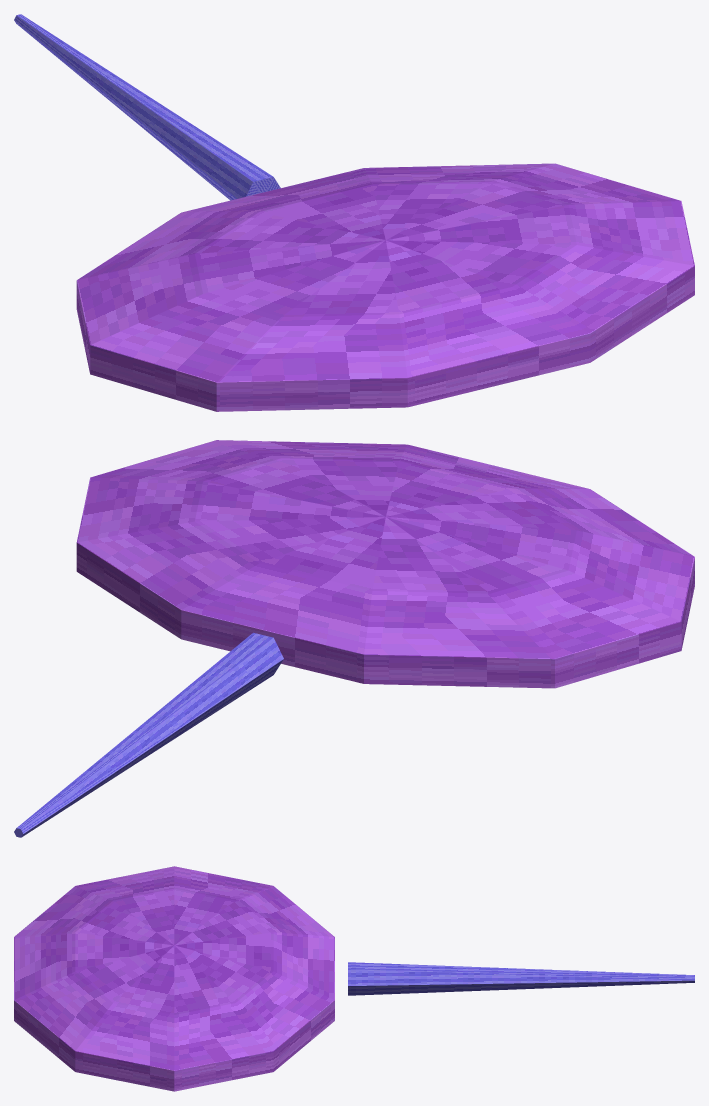
The model's file is raia_ametista.glb.
3 renders of one model, top to bottom at view 1: azimuth 30°, elevation 25°; view 2: azimuth 150°, elevation 25°; view 3: azimuth 270°, elevation 25°, orthographic. The views are drawn at different scales.
Visible parts, largest first — view 1: raia_ametista; view 2: raia_ametista; view 3: raia_ametista.
Part boxes in pixels (x1=…): raia_ametista: x1=14, y1=14, x2=694, y2=411; raia_ametista: x1=14, y1=440, x2=694, y2=837; raia_ametista: x1=14, y1=866, x2=694, y2=1091.
Bounding box in the file's own units: 1.26 × 0.192 × 1.77.
1 material, 1 textured.
